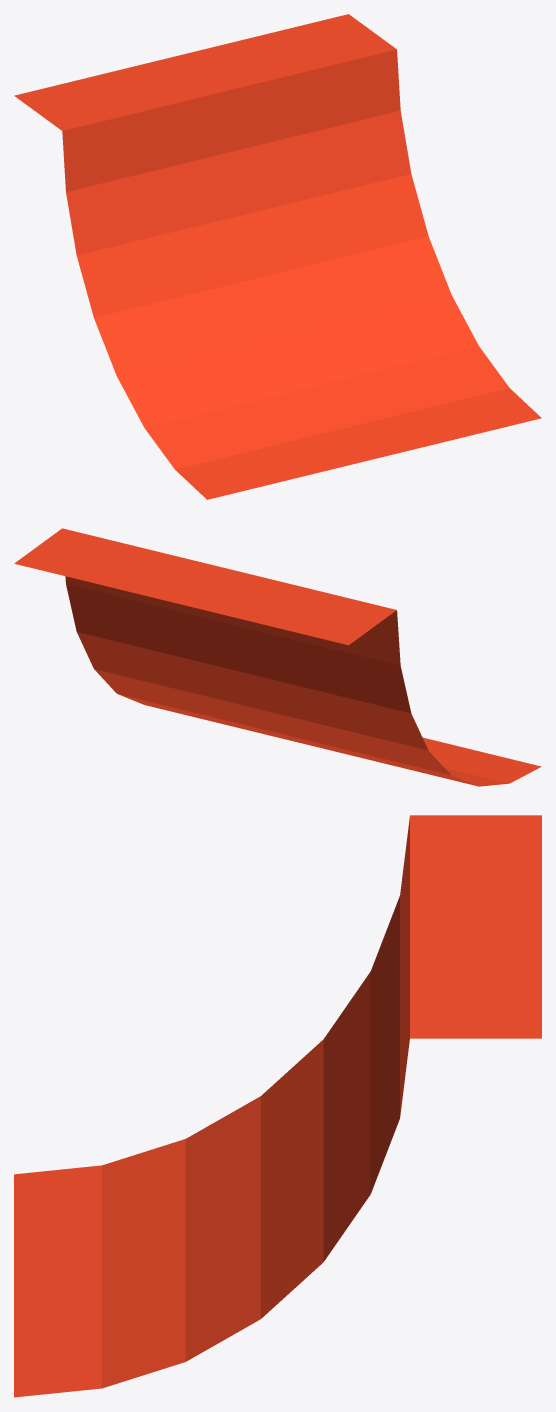
Rendered from SM_Skate_Bowl_Wall_City.fbx.
The picture shows the model from 3 angles, top to bottom: view 1: azimuth 30°, elevation 25°; view 2: azimuth 150°, elevation 25°; view 3: azimuth 270°, elevation 25°; orthographic projection. The views are drawn at different scales.
Parts seen in each view (by area): view 1: SM_Skate_Bowl_Wall_City; view 2: SM_Skate_Bowl_Wall_City; view 3: SM_Skate_Bowl_Wall_City.
Boxes of the visible parts, x1,y1,x2,y2 form: SM_Skate_Bowl_Wall_City: (14, 14, 541, 499); SM_Skate_Bowl_Wall_City: (14, 528, 541, 786); SM_Skate_Bowl_Wall_City: (14, 815, 541, 1397).
Size of the model in its own units: 2 by 1.5 by 2.
